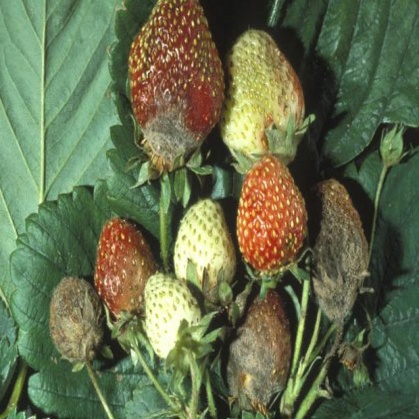Gray_Mold: (84, 55, 369, 366), (45, 93, 334, 323), (126, 4, 266, 410), (153, 171, 284, 349)
